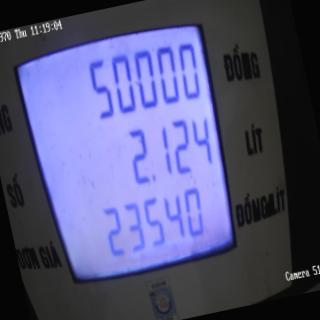screen: (2, 0, 256, 310)
